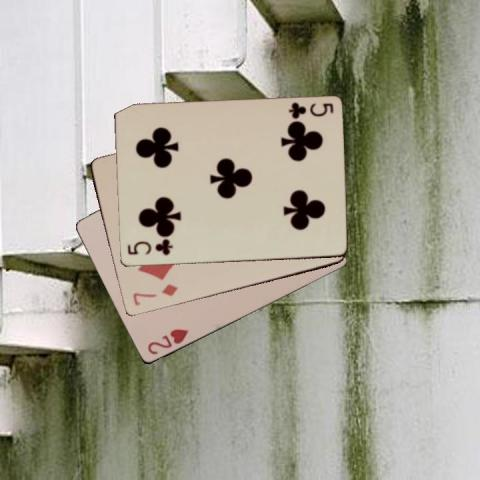2h: (144, 326, 190, 357)
5c: (285, 99, 334, 121), (124, 239, 174, 257)
7d: (130, 282, 180, 308)
